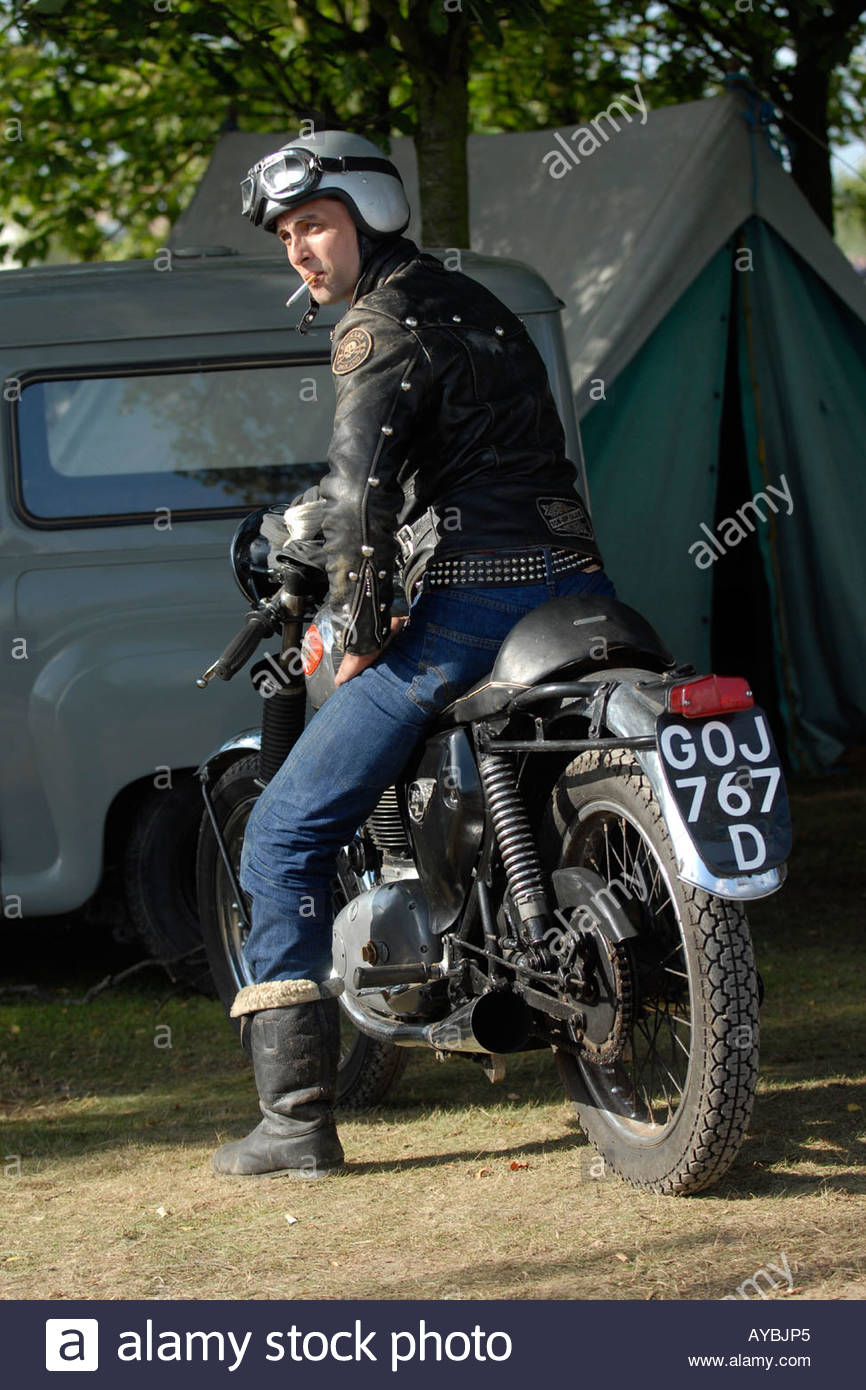with_helmet: (234, 126, 414, 238)
